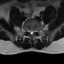CCS_severe_stenosis: (31, 29, 32, 36)
LFS_stenosis: (34, 28, 36, 33)
LLS_normal: (32, 29, 34, 35)
RFS_normal: (27, 28, 29, 34)
RLS_normal: (29, 29, 31, 35)
